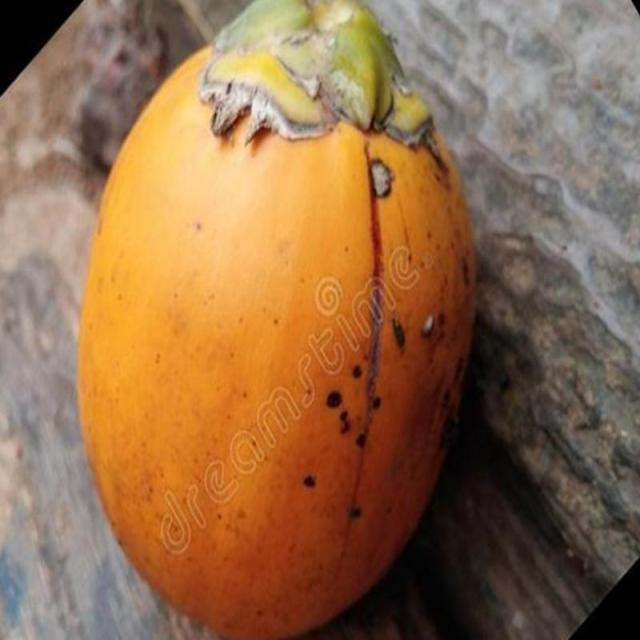good: (75, 0, 481, 639)
